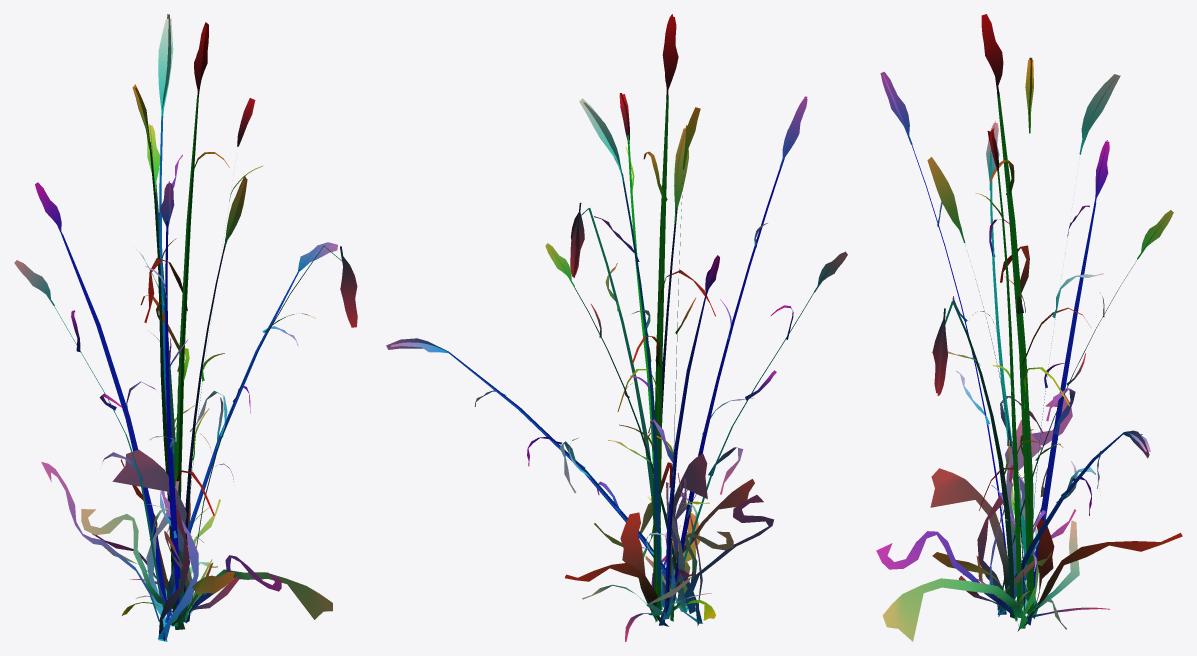
Rendered from Wheat_Grass_tdcrdbur_Low_tdcrdbur_VarC_LOD0.fbx.
3 renders of one model, left to right at view 1: azimuth 30°, elevation 25°; view 2: azimuth 150°, elevation 25°; view 3: azimuth 270°, elevation 25°, orthographic. The views are drawn at different scales.
Visible parts, largest first — view 1: _c203_VarC_LOD1; view 2: _c203_VarC_LOD1; view 3: _c203_VarC_LOD1.
Part boxes in pixels (box(x1,y1,x2,y2)): _c203_VarC_LOD1: box(14, 14, 357, 641); _c203_VarC_LOD1: box(386, 14, 847, 641); _c203_VarC_LOD1: box(876, 14, 1182, 641).
Size of the model in its own units: 88.44 by 130 by 58.32.
